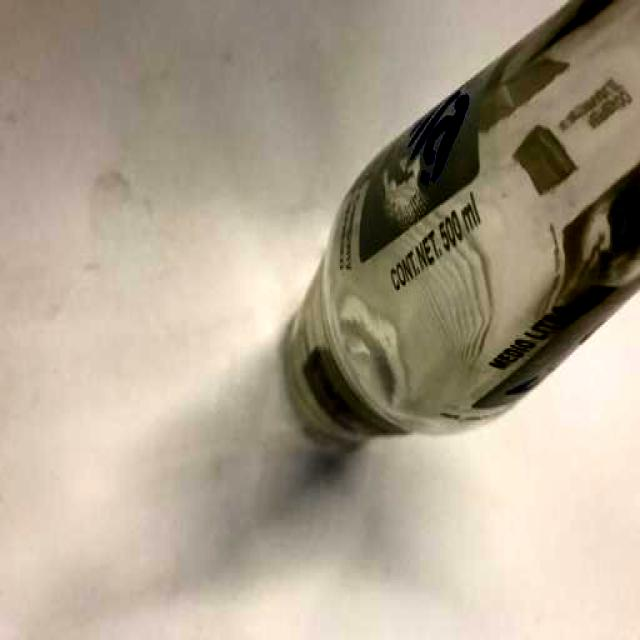Glass: (276, 0, 640, 466)
